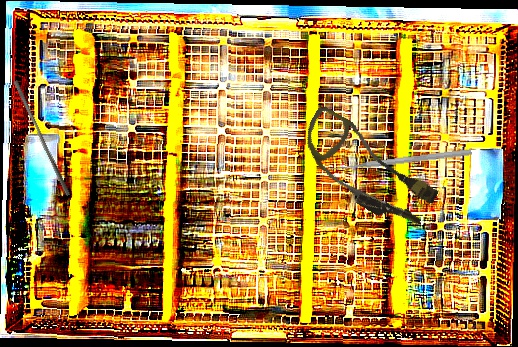Cannula: (286, 104, 448, 236)
Pusher: (8, 79, 76, 197), (326, 147, 473, 174)
